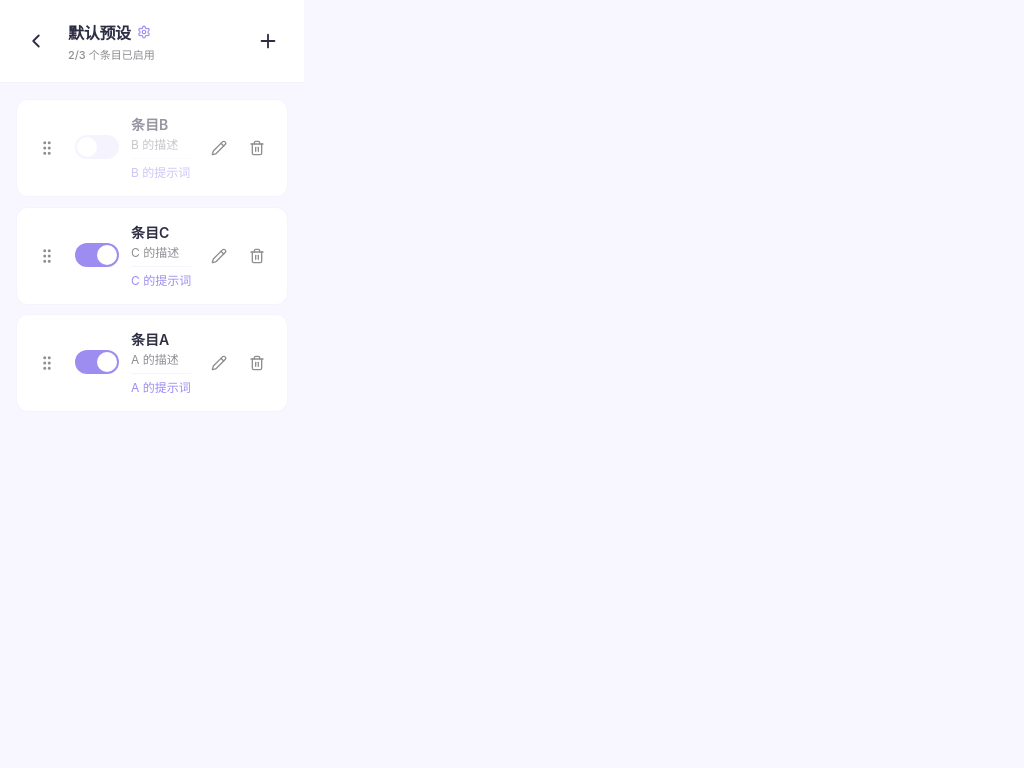
PromptPresetPage 预设管理 › 重命名预设：落库新名称、提示一次并同步头部
Check: the element showing "条目B B 的描述 B 的提示词" is shown, box 16,99 -> 288,197
Click the element showing "默认预设".
click(109, 33)  # box 68,23 -> 151,43
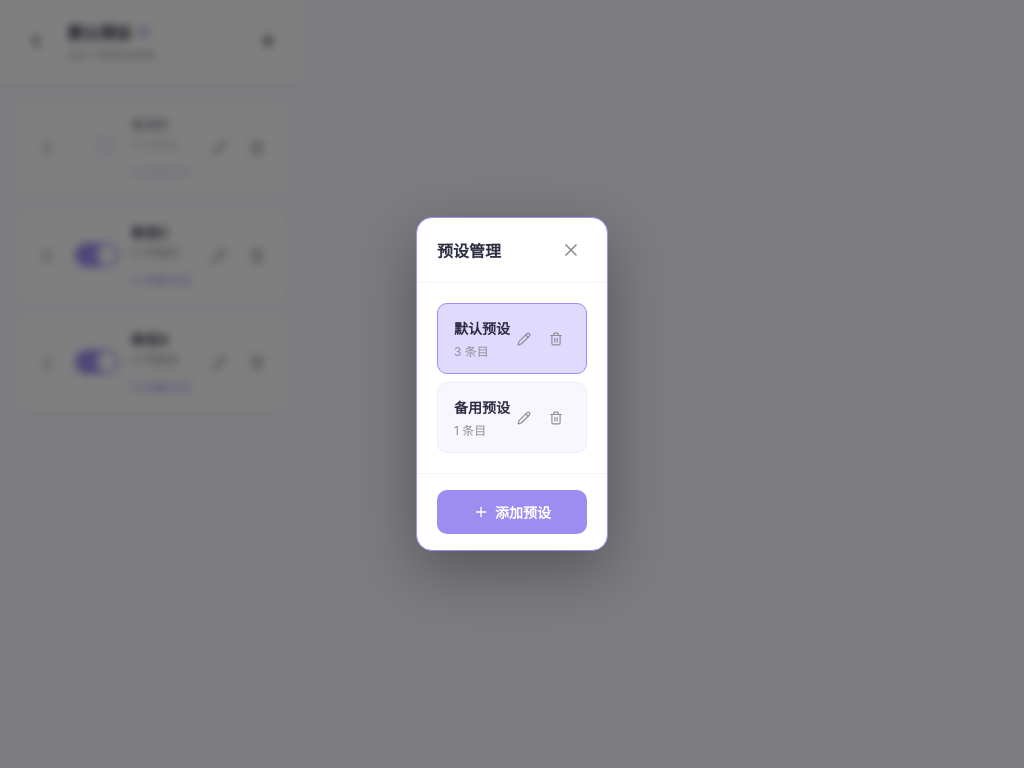
Check: the element showing "预设管理 默认预设 3 条目 备用预设 1 条目 添加预设" is shown, box 416,217 -> 608,551
Click the 2nd button.
click(524, 338)  # box 510,324 -> 538,352
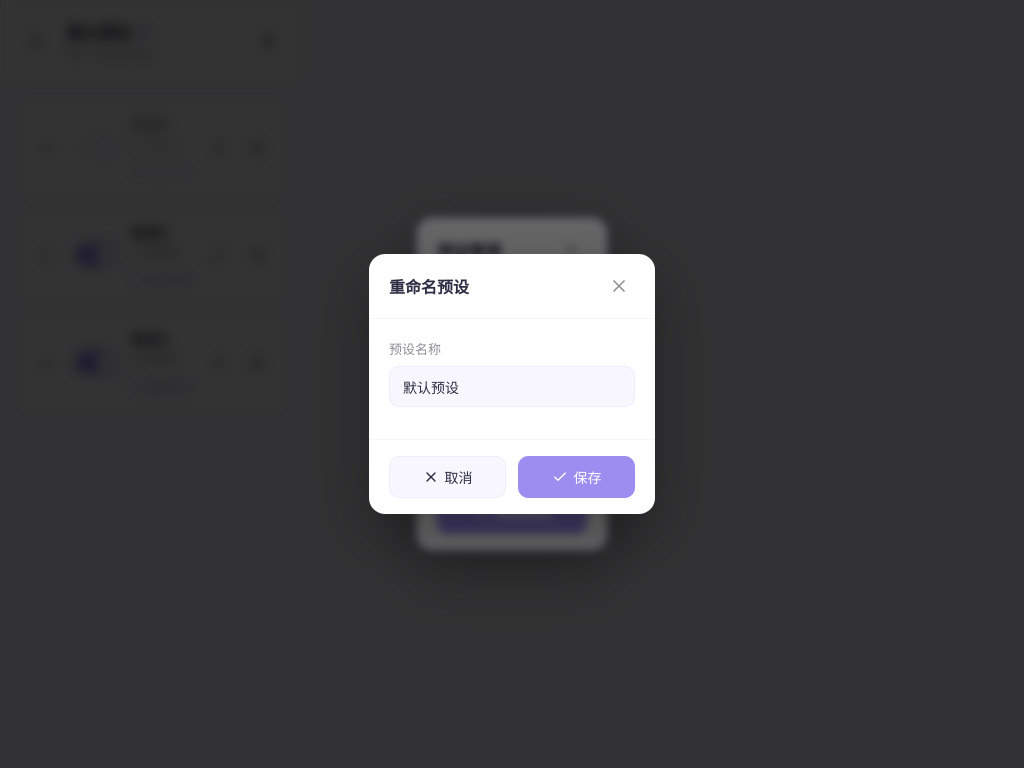
Check: the field holds "默认预设"
Replace the text in the field with "改过的预设" at (512, 386), box 389,366 -> 635,407
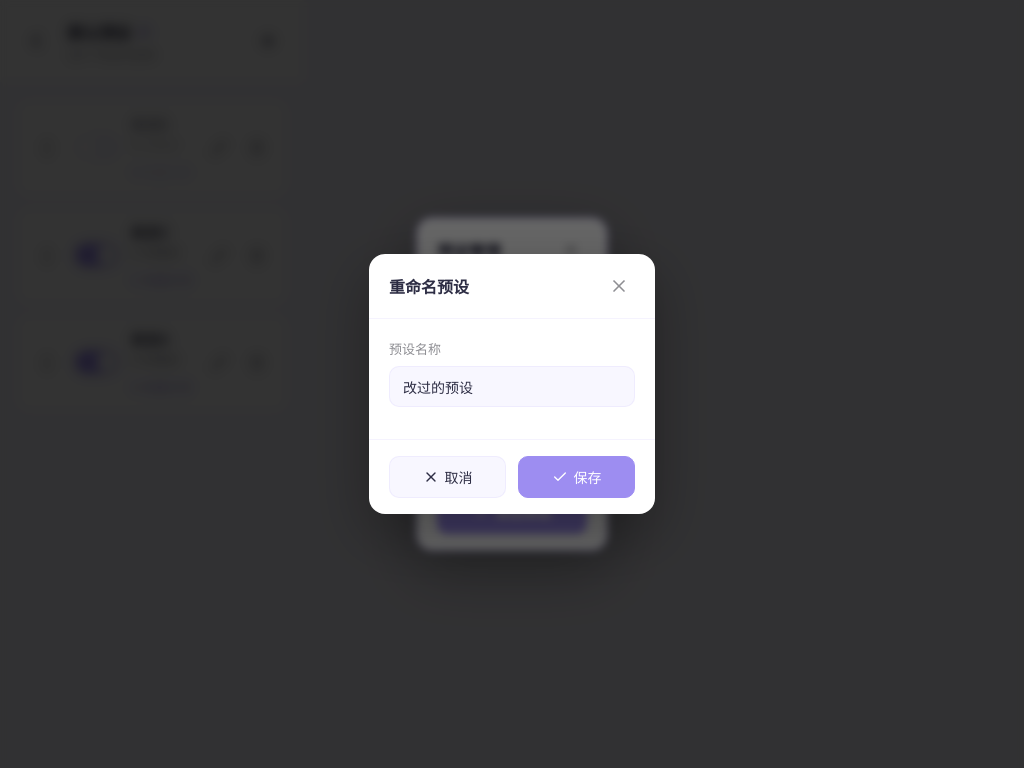
Click the button "保存".
click(576, 477)  # box 518,456 -> 635,498
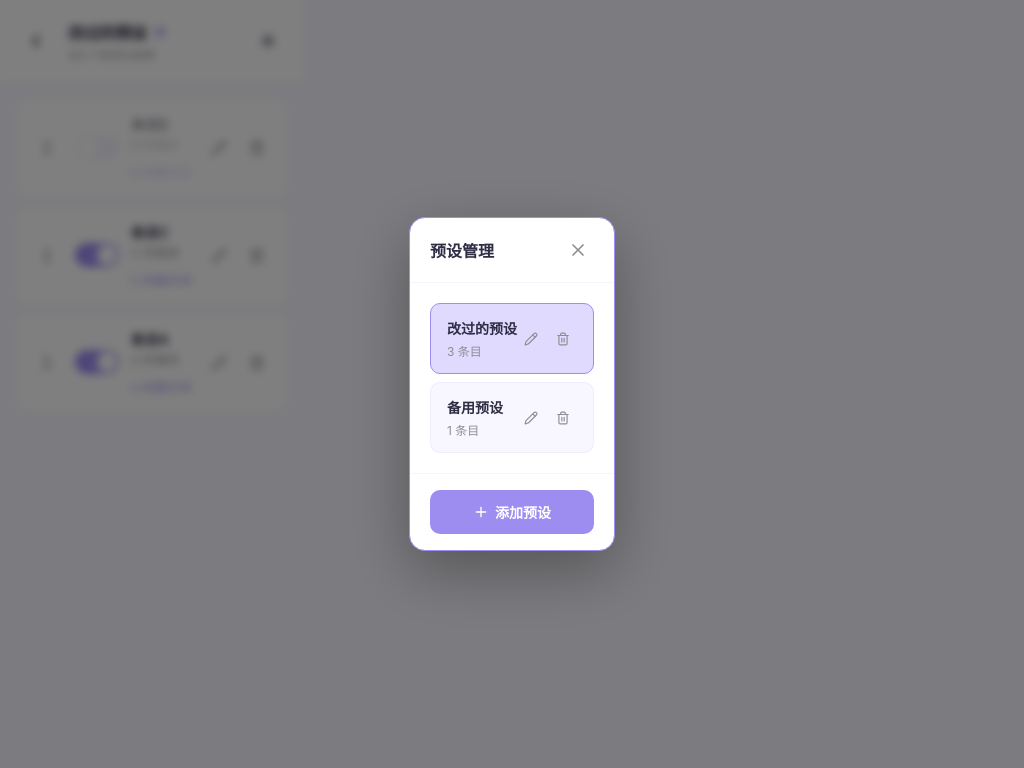
Check: the element showing "改过的预设" is shown, box 68,23 -> 166,43
